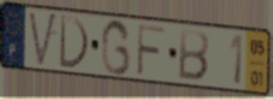1: (228, 32, 244, 88)
B: (176, 27, 211, 83)
D: (58, 13, 92, 72)
F: (135, 22, 168, 79)
G: (99, 18, 132, 78)
V: (27, 10, 59, 70)
